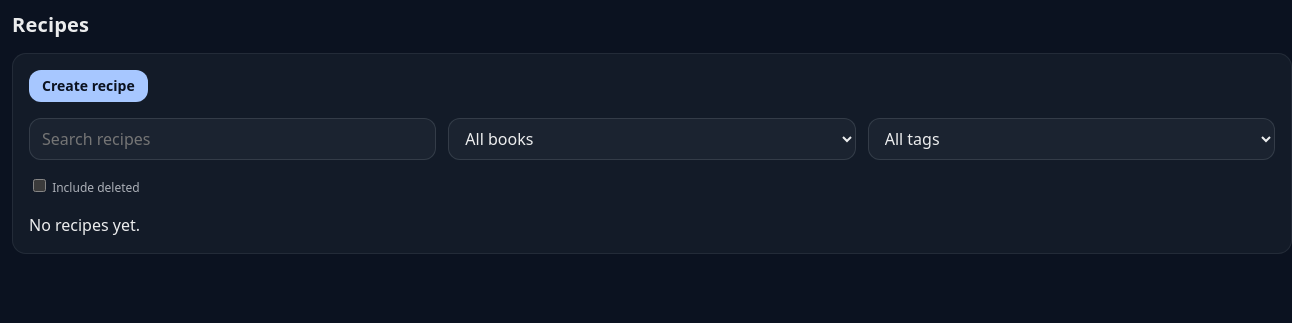
Scenario: RecipeListPage › can include deleted recipes and marks them
Expected: the text "No recipes yet." is shown, [29,214,140,236]
Click the checkbox labelled "Include deleted".
click(40, 186)  # box [33,179,46,192]
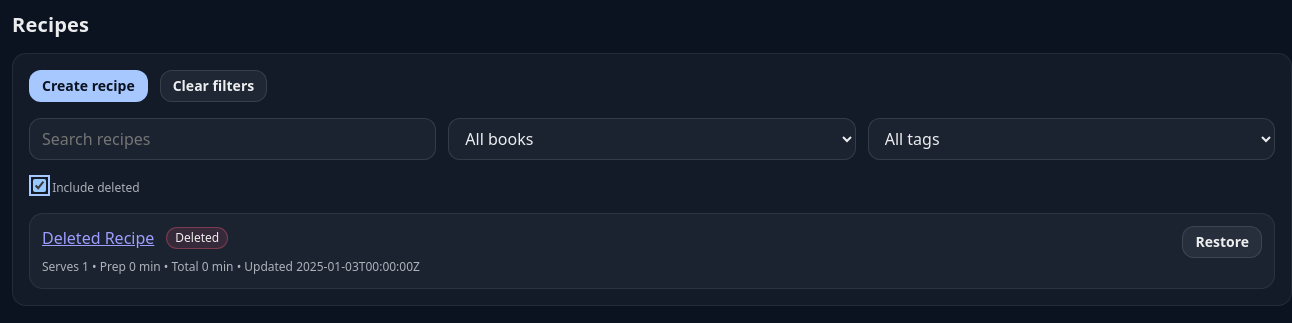
Now the link "Deleted Recipe" is shown, box [42,226,154,250]
Now the text "Deleted" is shown, box [166,227,228,249]
Now the button "Restore" is shown, box [1182,226,1262,258]
